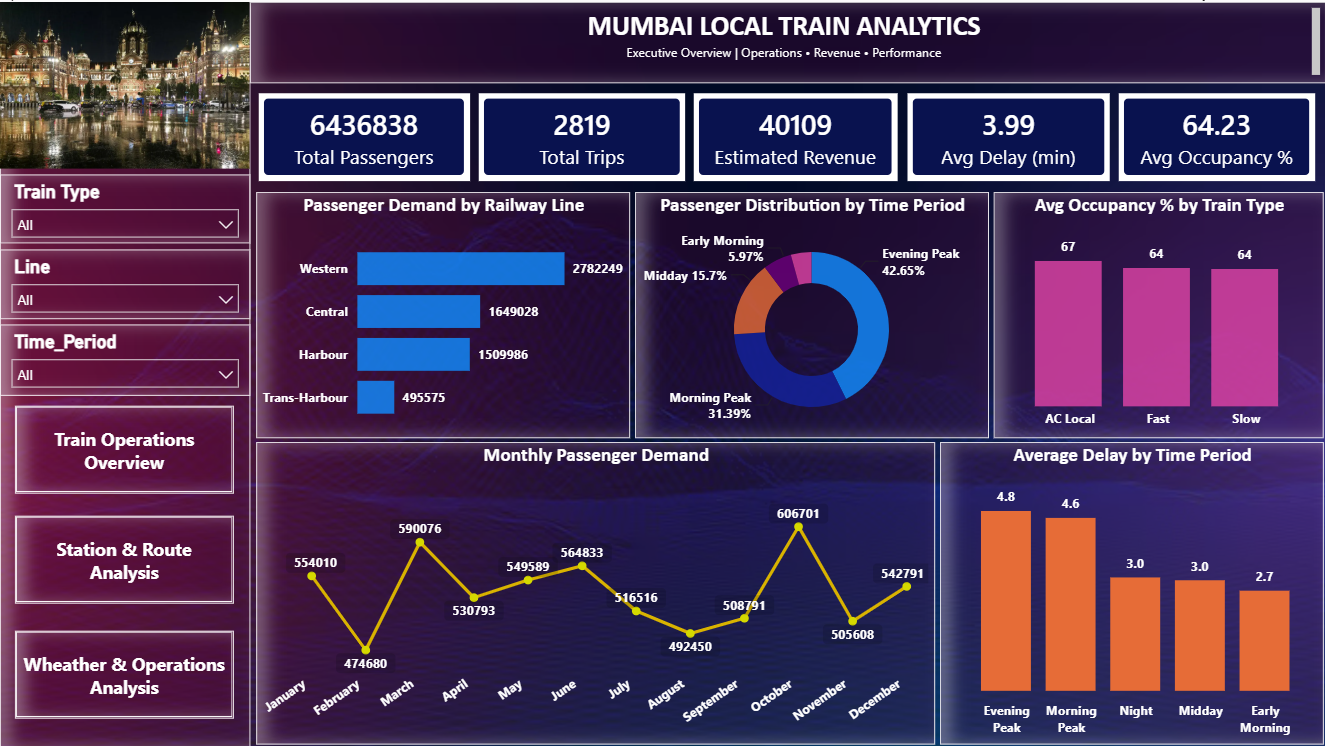

Layout of this report page (visuals, bound fields, positions):
{"tool":"powerbi","page":{"name":"Train Operation Overview","canvas":[1280,720],"ordinal":0},"visuals":[{"type":"cardVisual","fields":{"Data":["fact train operations.Total Passengers"]},"box":[249.7,88.1,203.9,84.5],"z":0},{"type":"cardVisual","fields":{"Data":["fact train operations.Total Estimated Revenue"]},"box":[669.6,88.1,196.6,84.5],"z":1000},{"type":"cardVisual","title":"Total Trips","fields":{"Data":["fact train operations.Total Trips"]},"box":[462.1,88.1,199.1,84.5],"z":2000},{"type":"cardVisual","title":"Avg Delay (min)","fields":{"Data":["fact train operations.Avg Delay (min)"]},"box":[875.9,88.1,195.4,84.5],"z":3000},{"type":"cardVisual","title":"Avg  Occupancy %","fields":{"Data":["fact train operations.Avg Occupancy %"]},"box":[1079.8,88.1,189.4,84.5],"z":4000},{"type":"textbox","box":[241.3,0,1038.7,78.4],"z":5000},{"type":"textbox","box":[0,0,241.3,720.2],"z":6000},{"type":"barChart","title":"Passenger  Demand by Railway Line","fields":{"Category":["Dim_Line.Line_Name"],"Y":["fact train operations.Total Passengers"]},"box":[247.3,183.4,360.7,237.7],"z":7000},{"type":"donutChart","title":"Passenger Distribution by Time Period","fields":{"Category":["fact train operations.Time_Period"],"Y":["fact train operations.Total Passengers"]},"box":[612.9,183.4,341.4,237.7],"z":8000},{"type":"columnChart","title":"Avg Occupancy % by Train Type","fields":{"Category":["Dim_Train.Train_Type"],"Y":["fact train operations.Avg Occupancy %"]},"box":[959.1,183.4,318.5,237.7],"z":9000},{"type":"lineChart","title":"Monthly Passenger Demand","fields":{"Category":["Dim_Date.Date.Variation.Date Hierarchy.Month"],"Y":["fact train operations.Total Passengers"]},"box":[247.3,424.7,655.1,292],"z":10000},{"type":"columnChart","title":"Average Delay by Time Period","fields":{"Category":["fact train operations.Time_Period"],"Y":["fact train operations.Avg Delay (min)"]},"box":[907.2,424.7,370.4,292],"z":11000},{"type":"image","box":[0,0,241.3,160.5],"z":12000},{"type":"actionButton","box":[14.5,495.8,211.1,84.5],"z":12001},{"type":"actionButton","box":[14.5,606.8,211.1,84.5],"z":12002},{"type":"actionButton","box":[14.5,389.7,211.1,84.5],"z":12003},{"type":"slicer","fields":{"Values":["Dim_Train.Train_Type"]},"box":[0,166.5,241.3,66.4],"z":12004},{"type":"slicer","fields":{"Values":["Dim_Line.Line_Name"]},"box":[0,238.9,241.3,67.6],"z":12005},{"type":"slicer","fields":{"Values":["fact train operations.Time_Period"]},"box":[0,311.3,241.3,68.8],"z":12006}]}

Visuals, with their boxes in screenshot pixels (x1, y1, x2, y2), scaled from the page's 1280x720 canvas onto the 1325x746 screenshot:
cardVisual - fact train operations.Total Passengers: crop(258, 91, 470, 179)
cardVisual - fact train operations.Total Estimated Revenue: crop(693, 91, 897, 179)
"Total Trips" cardVisual: crop(478, 91, 684, 179)
"Avg Delay (min)" cardVisual: crop(907, 91, 1109, 179)
"Avg  Occupancy %" cardVisual: crop(1118, 91, 1314, 179)
textbox: crop(250, 0, 1324, 81)
textbox: crop(0, 0, 250, 745)
"Passenger  Demand by Railway Line" barChart: crop(256, 190, 629, 436)
"Passenger Distribution by Time Period" donutChart: crop(634, 190, 988, 436)
"Avg Occupancy % by Train Type" columnChart: crop(993, 190, 1323, 436)
"Monthly Passenger Demand" lineChart: crop(256, 440, 934, 743)
"Average Delay by Time Period" columnChart: crop(939, 440, 1323, 743)
image: crop(0, 0, 250, 166)
actionButton: crop(15, 514, 234, 601)
actionButton: crop(15, 629, 234, 716)
actionButton: crop(15, 404, 234, 491)
slicer - Dim_Train.Train_Type: crop(0, 173, 250, 241)
slicer - Dim_Line.Line_Name: crop(0, 248, 250, 318)
slicer - fact train operations.Time_Period: crop(0, 323, 250, 394)
